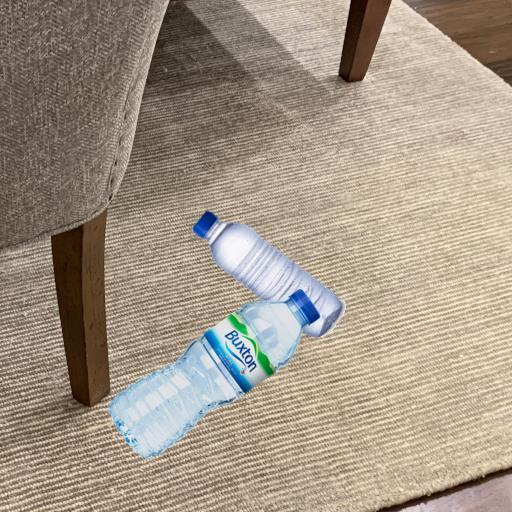bottle: (106, 351, 312, 371), (252, 200, 281, 342)
